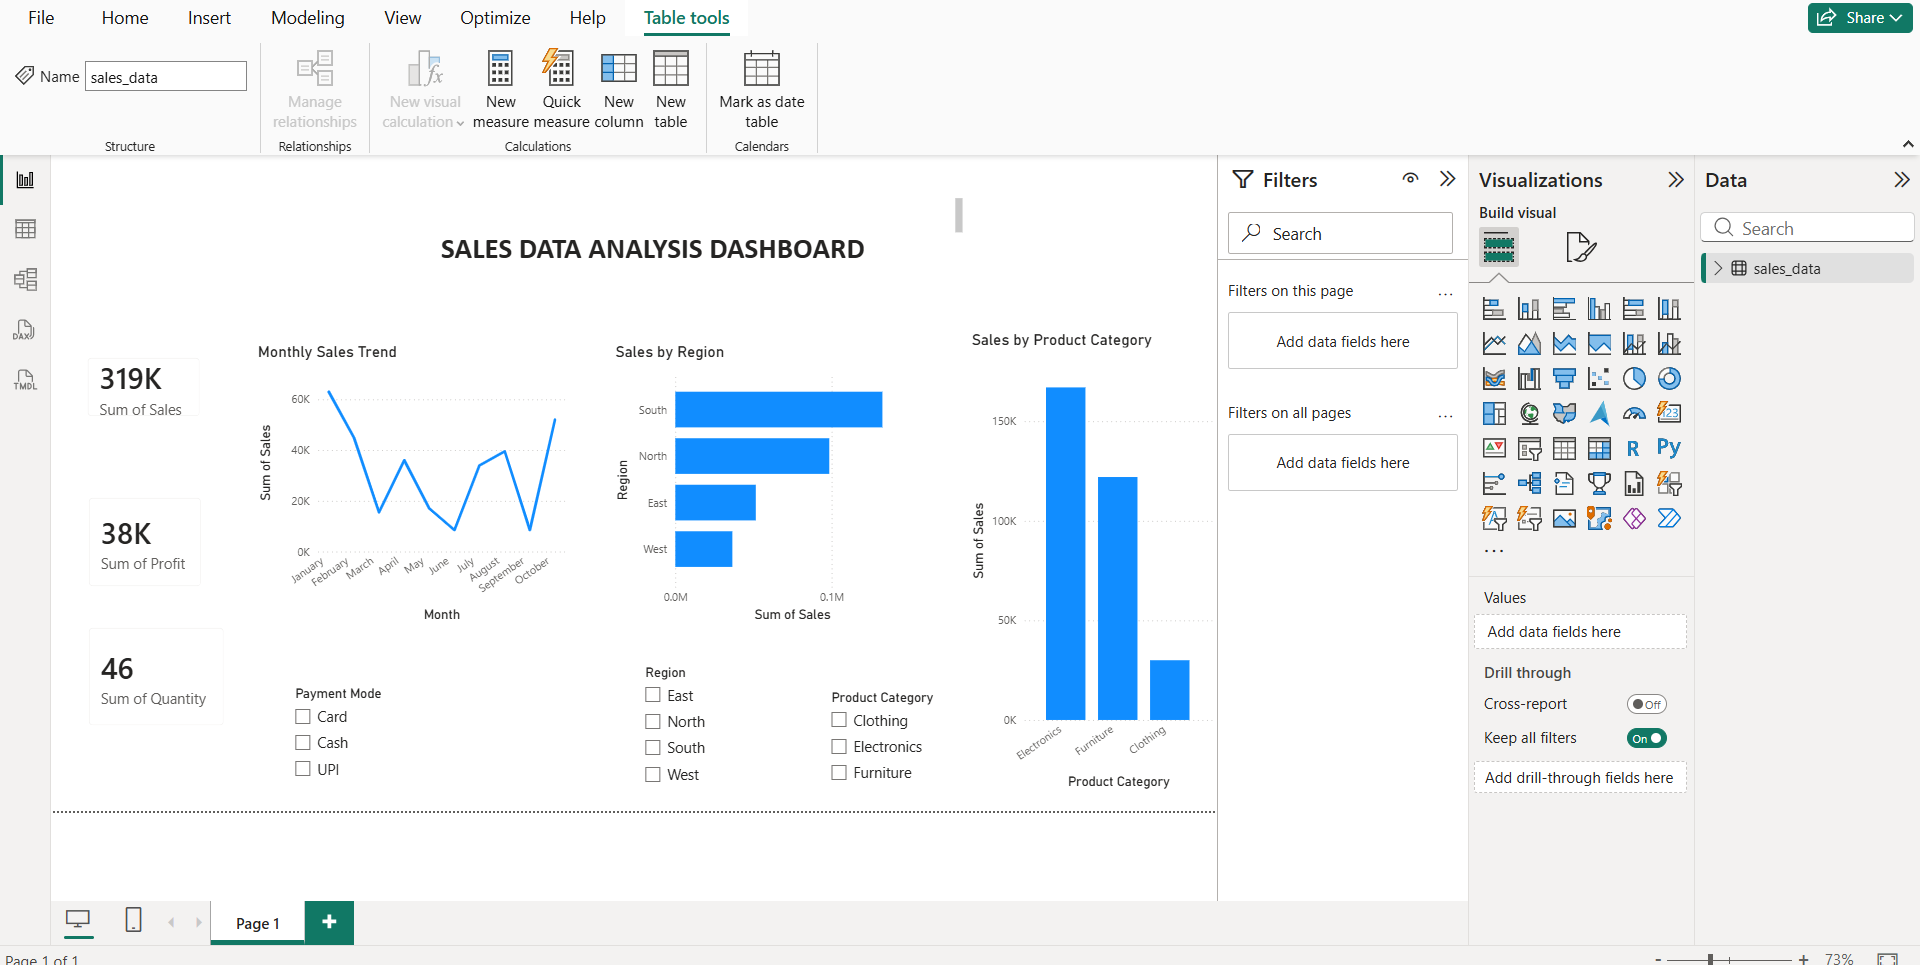

This screenshot's page, from the dashboard's own definition file:
{"tool":"powerbi","page":{"name":"Page 1","canvas":[1280,720],"ordinal":0},"visuals":[{"type":"cardVisual","fields":{"Data":["Sum(sales_data.Sales)"]},"box":[23.3,205.8,157.8,98.8],"z":0},{"type":"cardVisual","fields":{"Data":["Sum(sales_data.Profit)"]},"box":[24.7,359.5,157.8,131.7],"z":1000},{"type":"cardVisual","fields":{"Data":["Sum(sales_data.Quantity)"]},"box":[24.7,502.2,182.5,141.3],"z":2000},{"type":"lineChart","title":"Monthly Sales Trend","fields":{"Category":["sales_data.Order Date.Variation.Date Hierarchy.Month"],"Y":["Sum(sales_data.Sales)"]},"box":[222.3,205.8,347.2,311.5],"z":3000},{"type":"clusteredBarChart","title":"Sales by Region","fields":{"Category":["sales_data.Region"],"Y":["Sum(sales_data.Sales)"]},"box":[614.8,205.8,347.2,311.5],"z":4000},{"type":"clusteredColumnChart","title":"Sales by Product Category","fields":{"Category":["sales_data.Product Category"],"Y":["Sum(sales_data.Sales)"]},"box":[1005.8,192.1,274.4,509.1],"z":5000},{"type":"slicer","fields":{"Values":["sales_data.Payment Mode"]},"box":[255.2,577.7,141.3,131.7],"z":6000},{"type":"slicer","fields":{"Values":["sales_data.Product Category"]},"box":[843.9,581.8,146.8,138.6],"z":7000},{"type":"slicer","fields":{"Values":["sales_data.Region"]},"box":[639.5,554.4,145.5,166],"z":8000},{"type":"textbox","box":[222.3,42.5,783.5,91.9],"z":9000}]}

Visuals, with their boxes on the page's 1280x720 design canvas (x1, y1, x2, y2). These are canvas units, not pixel positions in the 1920x965 screenshot, which may show the page scaled, cropped or inside an application window:
cardVisual - Sum(sales_data.Sales): left=23, top=206, right=181, bottom=305
cardVisual - Sum(sales_data.Profit): left=25, top=360, right=182, bottom=491
cardVisual - Sum(sales_data.Quantity): left=25, top=502, right=207, bottom=644
"Monthly Sales Trend" lineChart: left=222, top=206, right=570, bottom=517
"Sales by Region" clusteredBarChart: left=615, top=206, right=962, bottom=517
"Sales by Product Category" clusteredColumnChart: left=1006, top=192, right=1280, bottom=701
slicer - sales_data.Payment Mode: left=255, top=578, right=396, bottom=709
slicer - sales_data.Product Category: left=844, top=582, right=991, bottom=720
slicer - sales_data.Region: left=640, top=554, right=785, bottom=720
textbox: left=222, top=42, right=1006, bottom=134
